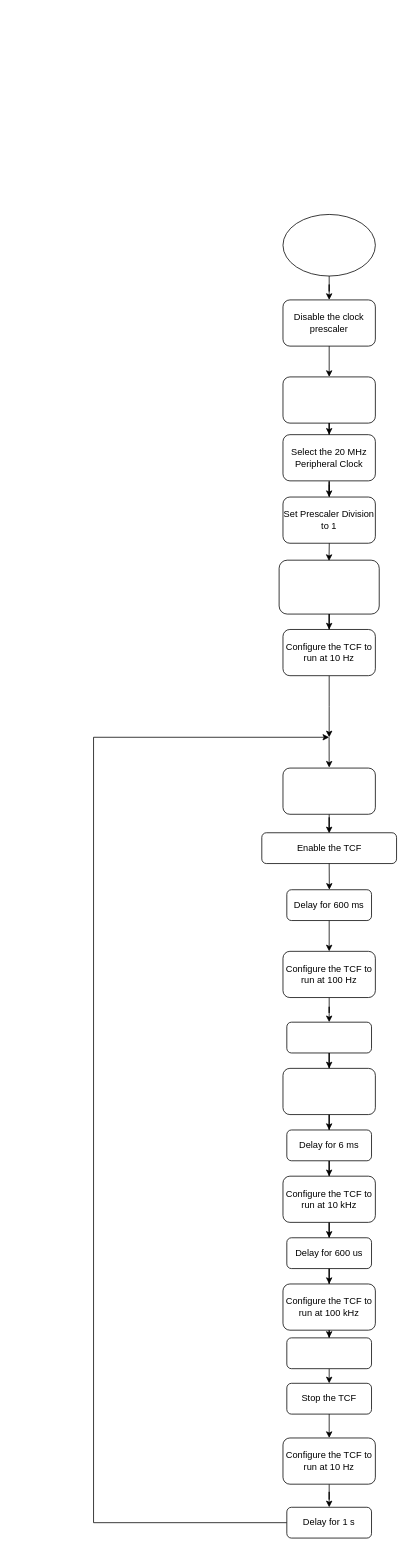
The diagram is 410 pixels wide and 1552 high, and some of its shapes have lost their labels. The shapes that lost their labels are listed below. From the top down, each one's box as (x1, y1, x2, y2) in pixels, then its label:
(282, 214, 375, 276): Start
(282, 376, 375, 423): Enable the TCF pin outputs
(278, 559, 379, 614): Configure the TCF in Numerically Controlled Oscillator Fixed Duty Cycle mode
(282, 767, 375, 814): Configure the TCF to start counting from 0
(286, 1021, 372, 1053): Delay for 60 ms
(282, 1068, 375, 1115): Configure the TCF to run at 1 kHz
(286, 1337, 372, 1369): Delay for 60 us
